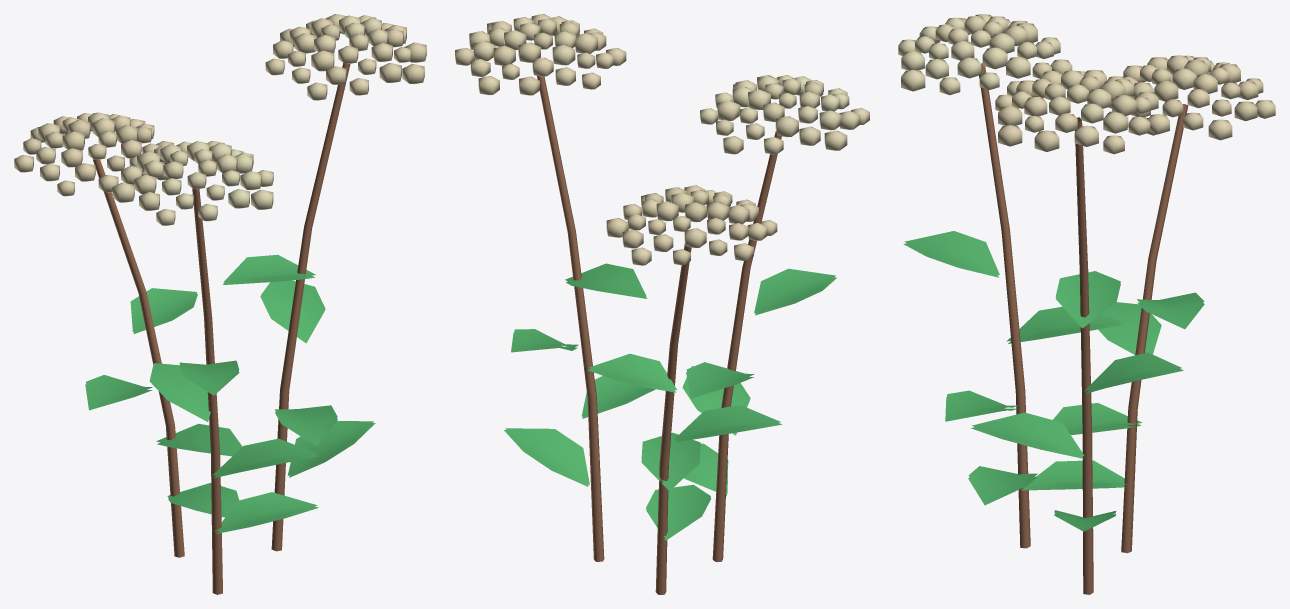
The model's file is ing_elderflower.gltf.
The picture shows the model from 3 angles, left to right: view 1: azimuth 30°, elevation 25°; view 2: azimuth 150°, elevation 25°; view 3: azimuth 270°, elevation 25°; orthographic projection. The views are drawn at different scales.
Visible parts, largest first — view 1: ing_elderflower; view 2: ing_elderflower; view 3: ing_elderflower.
Part boxes in pixels (bbox=[...]): ing_elderflower: bbox=[14, 14, 426, 594]; ing_elderflower: bbox=[455, 14, 869, 594]; ing_elderflower: bbox=[898, 14, 1275, 594].
Size of what is drawn, in the model's own units: 0.3961 by 0.5776 by 0.3614.
